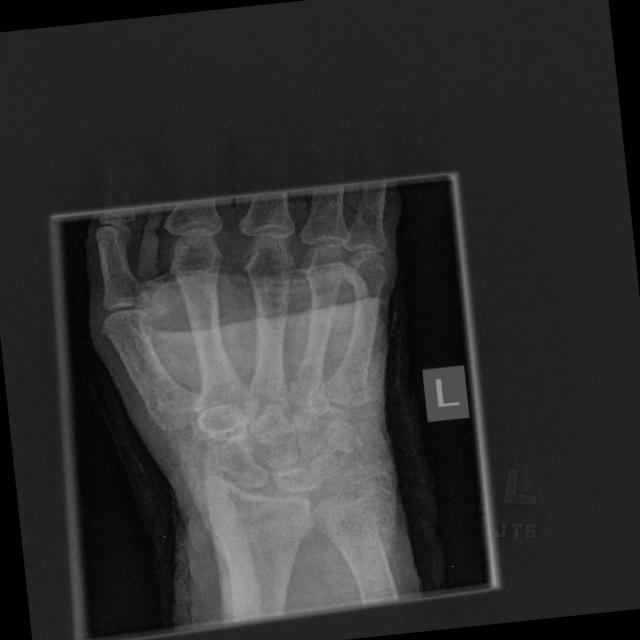fingers positive: (191, 491, 315, 550), (238, 414, 318, 470)
